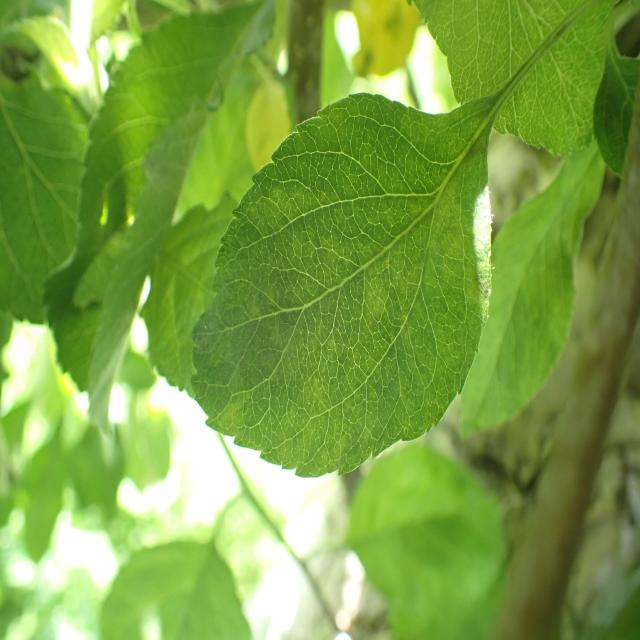scab: (216, 149, 494, 442)
